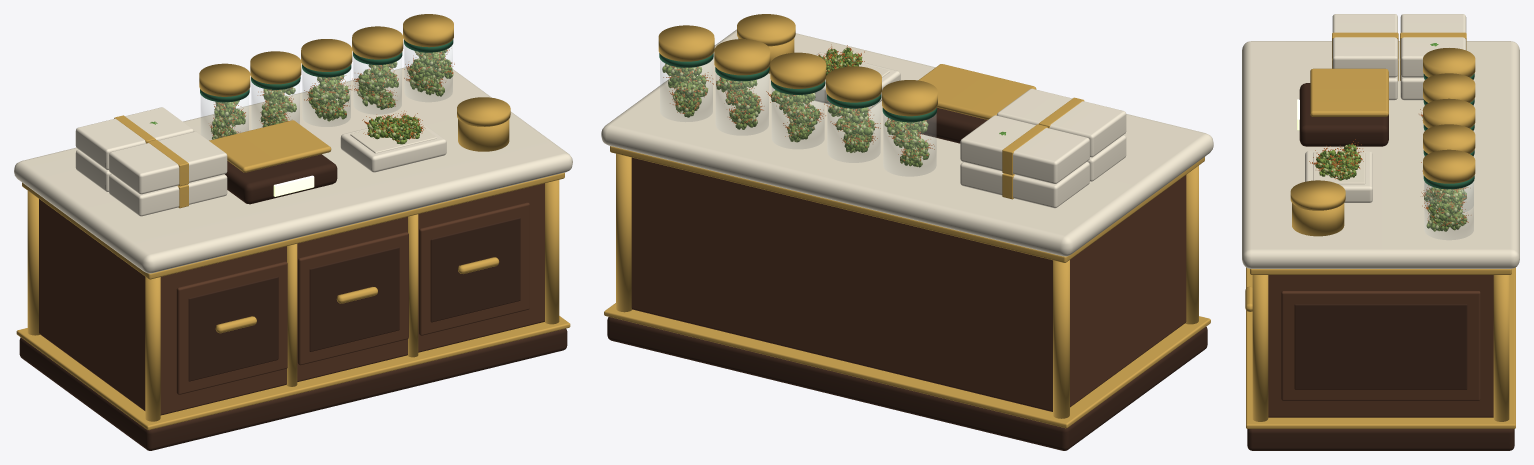
File: pack_bench.glb
3 views of the same model, side by side, from view 1: azimuth 30°, elevation 25°; view 2: azimuth 150°, elevation 25°; view 3: azimuth 270°, elevation 25° (orthographic). The views are drawn at different scales.
Parts seen in each view (by area): view 1: Top, Body, Plinth, DrawerInset1, DrawerInset2, DrawerInset0, PlinthBrass, Drawer1, Drawer0, Drawer2, Box3, ScalePan (+24 smaller); view 2: Body, Top, Plinth, PlinthBrass, Box1, Box3, TopBand, ScalePan, Box0, Jar0, Jar1, Jar4 (+14 smaller); view 3: Top, EndInset, Body, EndPanel, Plinth, PlinthBrass, ScalePan, Box3, ScaleBase, Box1, Jar4, Column1-1 (+19 smaller).
Part boxes in pixels (left/top/right/bottom): Top: left=14, top=66, right=572, bottom=273; Body: left=39, top=183, right=544, bottom=415; Plinth: left=19, top=328, right=567, bottom=450; DrawerInset1: left=309, top=247, right=399, bottom=351; DrawerInset2: left=430, top=217, right=520, bottom=322; DrawerInset0: left=188, top=276, right=278, bottom=381; PlinthBrass: left=16, top=316, right=570, bottom=430; Drawer1: left=297, top=232, right=408, bottom=365; Drawer0: left=176, top=261, right=287, bottom=394; Drawer2: left=419, top=202, right=529, bottom=335; Box3: left=109, top=131, right=227, bottom=194; ScalePan: left=209, top=120, right=331, bottom=172; Body: left=631, top=157, right=1186, bottom=411; Top: left=601, top=29, right=1213, bottom=256; Plinth: left=607, top=317, right=1207, bottom=450; PlinthBrass: left=604, top=303, right=1210, bottom=428; Box1: left=960, top=115, right=1089, bottom=183; Box3: left=996, top=88, right=1126, bottom=157; TopBand: left=610, top=146, right=1204, bottom=262; ScalePan: left=918, top=64, right=1036, bottom=119; Box0: left=960, top=162, right=1089, bottom=208; Jar0: left=883, top=114, right=936, bottom=176; Jar1: left=827, top=101, right=880, bottom=162; Jar4: left=660, top=60, right=712, bottom=121; Top: left=1242, top=41, right=1519, bottom=268; EndInset: left=1294, top=304, right=1467, bottom=389; Body: left=1268, top=275, right=1493, bottom=417; EndPanel: left=1281, top=291, right=1480, bottom=400; Plinth: left=1247, top=429, right=1514, bottom=450; PlinthBrass: left=1246, top=267, right=1515, bottom=428; ScalePan: left=1310, top=68, right=1388, bottom=116; Box3: left=1332, top=14, right=1397, bottom=77; ScaleBase: left=1299, top=83, right=1388, bottom=146; Box1: left=1400, top=14, right=1466, bottom=77; Jar4: left=1424, top=182, right=1473, bottom=239; Column1-1: left=1252, top=275, right=1268, bottom=421.
Bounding box in the file's own units: 1.94 × 1.14 × 1.06.
